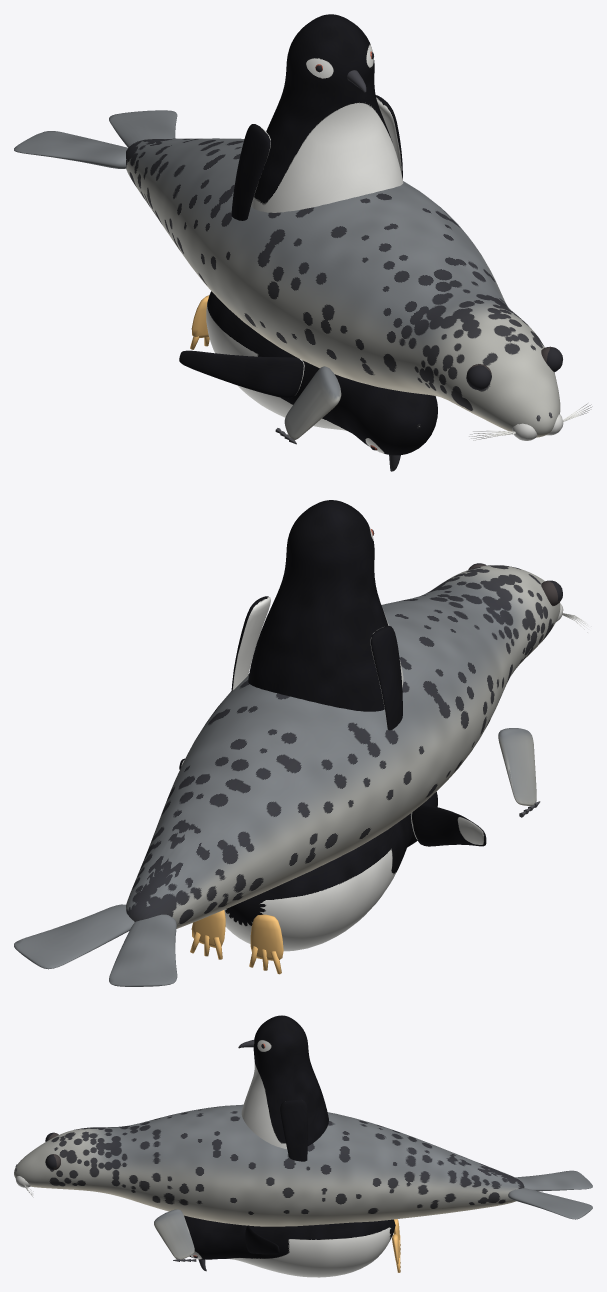
The model's file is critters.glb.
3 renders of one model, top to bottom at view 1: azimuth 30°, elevation 25°; view 2: azimuth 150°, elevation 25°; view 3: azimuth 270°, elevation 25°, orthographic. The views are drawn at different scales.
Visible parts, largest first — view 1: Creature_Seal, Creature_Penguin, Creature_Penguin_Swim; view 2: Creature_Seal, Creature_Penguin, Creature_Penguin_Swim; view 3: Creature_Seal, Creature_Penguin_Swim, Creature_Penguin.
Part boxes in pixels (x1,y1,x2,y2): Creature_Seal: [14, 110, 592, 444]; Creature_Penguin: [231, 14, 403, 220]; Creature_Penguin_Swim: [179, 291, 437, 471]; Creature_Seal: [14, 563, 588, 986]; Creature_Penguin: [231, 500, 403, 730]; Creature_Penguin_Swim: [179, 758, 486, 974]; Creature_Seal: [14, 1104, 592, 1261]; Creature_Penguin_Swim: [184, 1215, 400, 1277]; Creature_Penguin: [238, 1015, 328, 1161].
Bounding box in the file's own units: 0.6432 × 0.8278 × 1.7.
11 materials, 3 textured.
